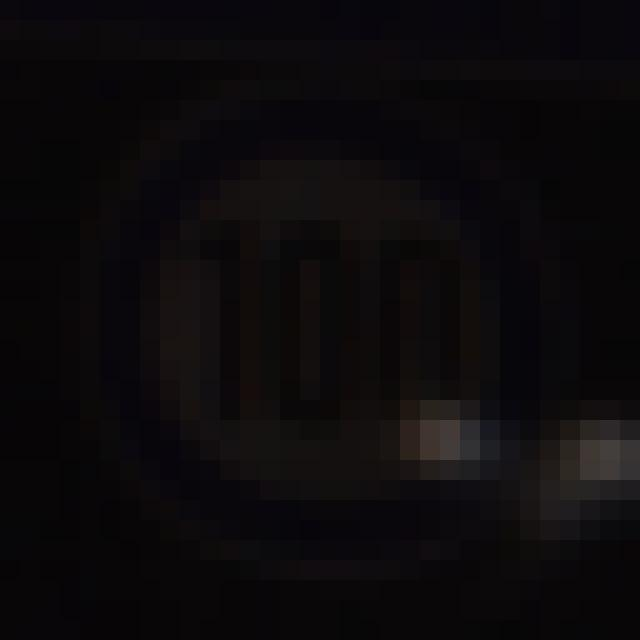SPEED LIMIT 100: (91, 96, 549, 554)
